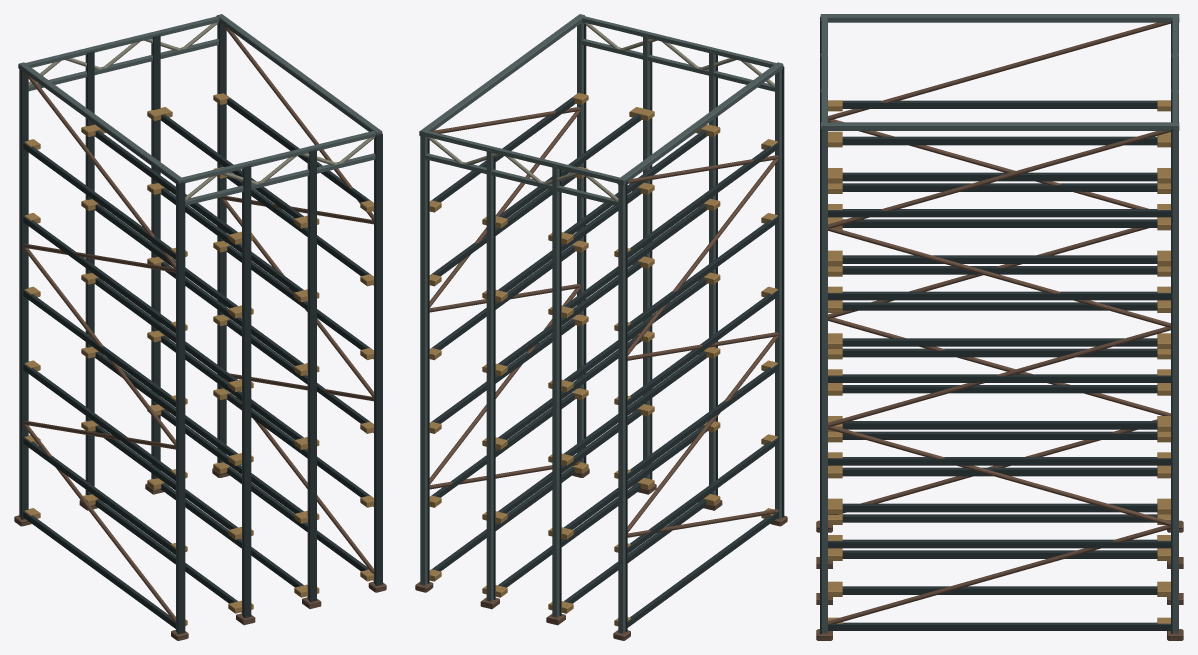
File: SR-01_cell_rack.glb
3 renders of one model, left to right at view 1: azimuth 30°, elevation 25°; view 2: azimuth 150°, elevation 25°; view 3: azimuth 270°, elevation 25°, orthographic. The views are drawn at different scales.
Parts seen in each view (by area): view 1: SR-01_cell_rack; view 2: SR-01_cell_rack; view 3: SR-01_cell_rack.
Part boxes in pixels (x1,y1,x2,y2): SR-01_cell_rack: [14, 14, 386, 640]; SR-01_cell_rack: [415, 14, 787, 640]; SR-01_cell_rack: [816, 14, 1183, 640].
Size of the model in its own units: 9.89 by 20.64 by 13.37.
